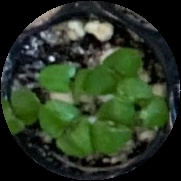Basil: (39, 99, 96, 157), (125, 80, 170, 129), (37, 61, 99, 95), (93, 48, 139, 93), (0, 88, 41, 136), (96, 97, 129, 152)
